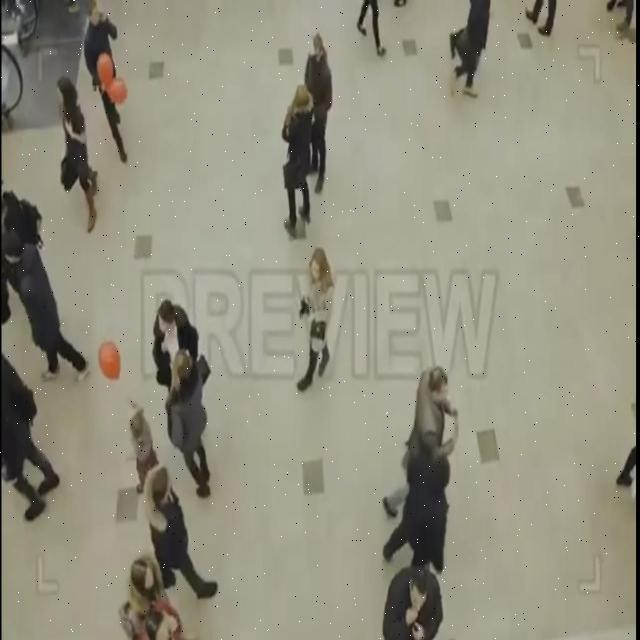humans: (2, 224, 91, 383), (382, 360, 454, 516), (1, 351, 61, 526), (80, 0, 140, 168), (146, 465, 218, 596), (52, 72, 104, 236), (382, 454, 455, 561), (166, 345, 217, 496), (278, 75, 314, 242), (296, 246, 334, 396), (121, 557, 186, 640), (382, 556, 446, 640), (307, 32, 337, 195), (448, 5, 495, 101), (149, 297, 200, 377), (125, 392, 158, 472)
